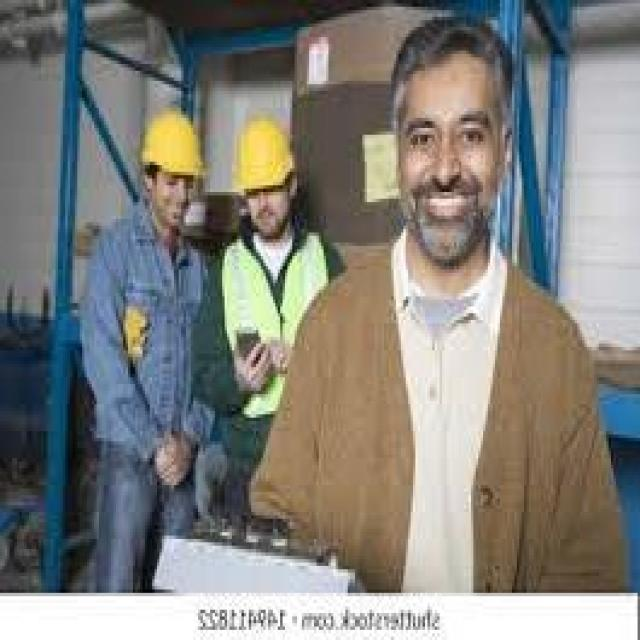Reflective-Jacket: (215, 222, 340, 434)
Safety-Helmet: (225, 104, 309, 209), (130, 98, 218, 198)
